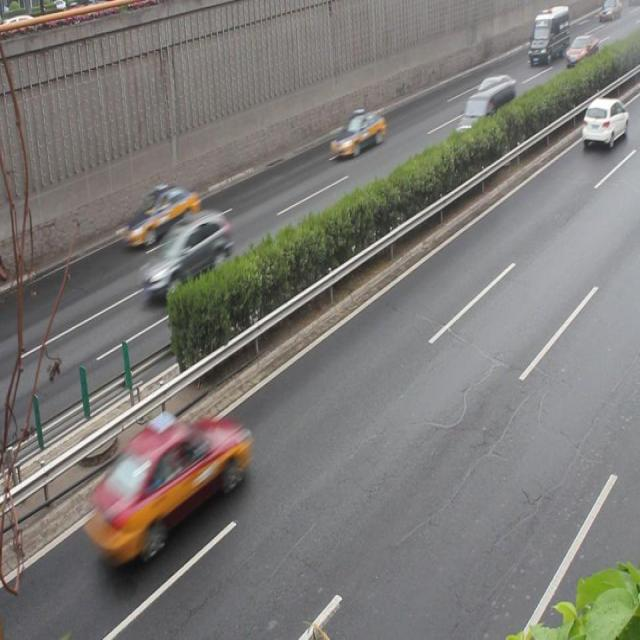car: (89, 418, 247, 560), (139, 211, 230, 301), (125, 183, 198, 252), (330, 110, 386, 162), (578, 98, 624, 149)
truck: (454, 83, 515, 146)
